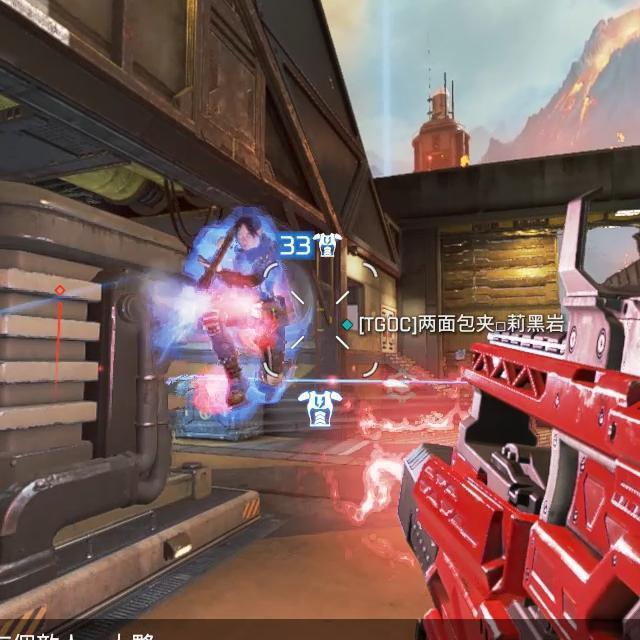avatar: (196, 203, 289, 408)
